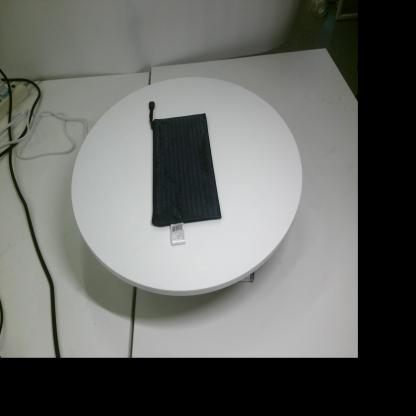Stationery: (149, 101, 222, 246)
